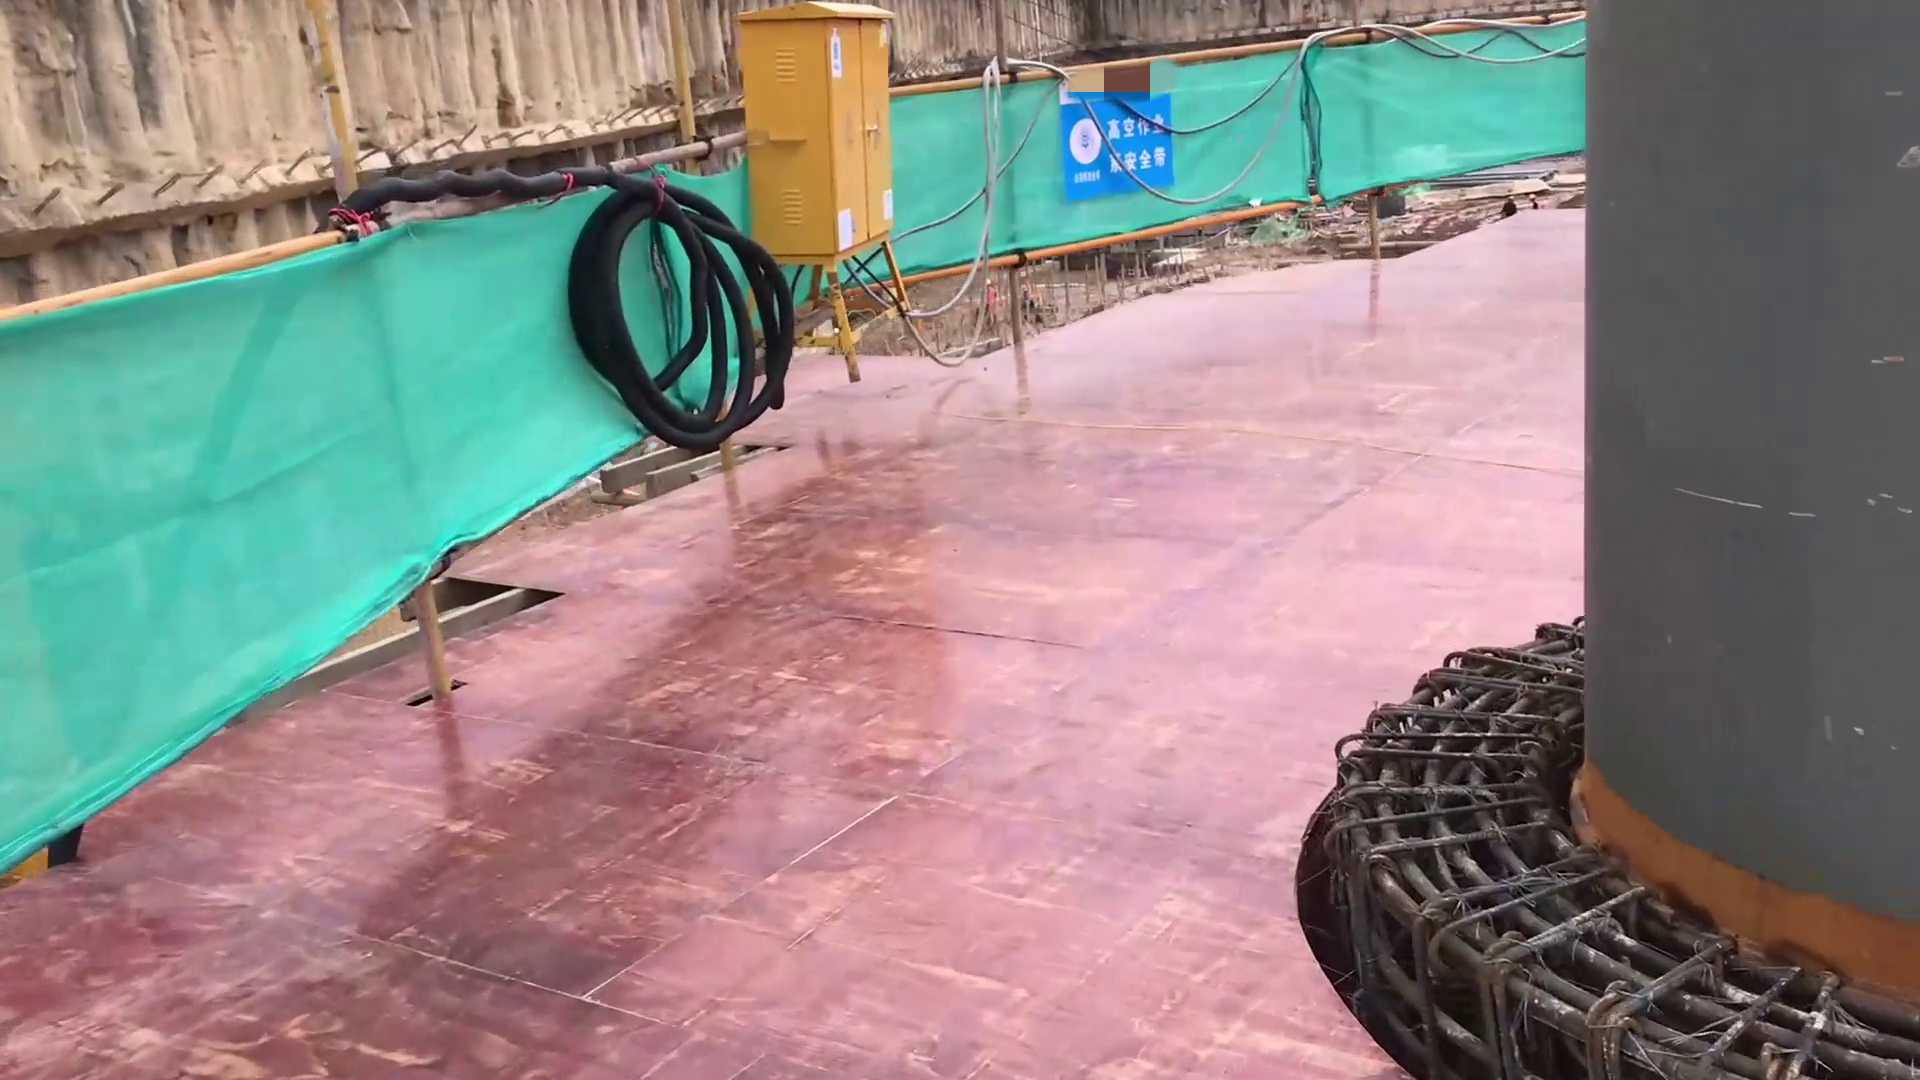ebox: (764, 3, 889, 244)
slogan: (1054, 102, 1174, 161)
